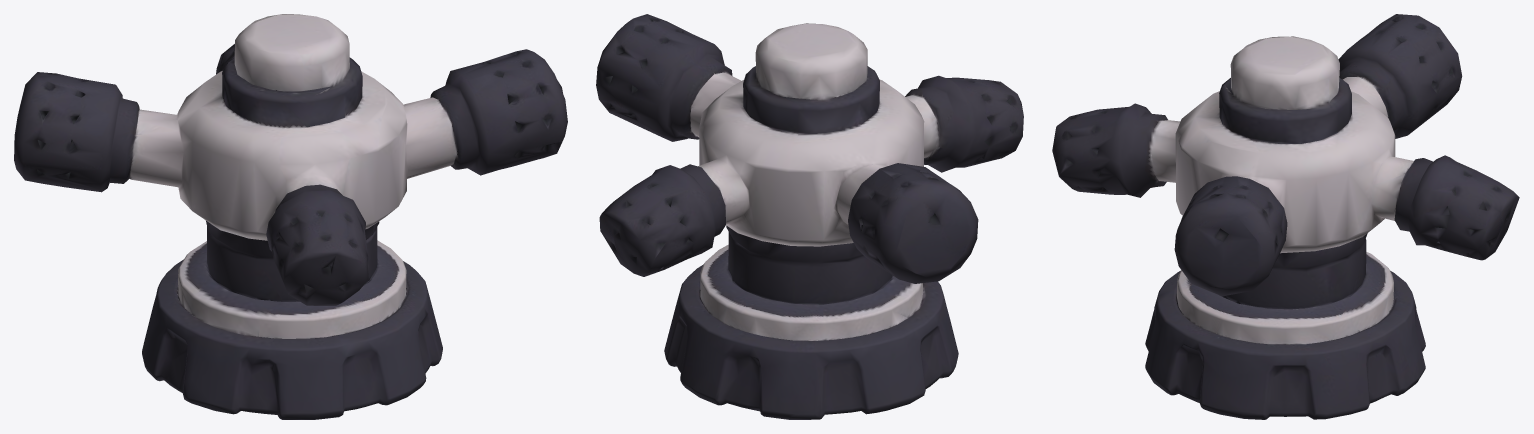
Rendered from Sprinkle.fbx.
The picture shows the model from 3 angles, left to right: view 1: azimuth 30°, elevation 25°; view 2: azimuth 150°, elevation 25°; view 3: azimuth 270°, elevation 25°; orthographic projection. The views are drawn at different scales.
Visible parts, largest first — view 1: Sprinkle; view 2: Sprinkle; view 3: Sprinkle.
Part boxes in pixels (x1,y1,x2,y2): Sprinkle: (14, 14, 567, 419); Sprinkle: (596, 14, 1023, 419); Sprinkle: (1052, 14, 1519, 419).
Size of the model in its own units: 98.14 by 67.61 by 92.23.
